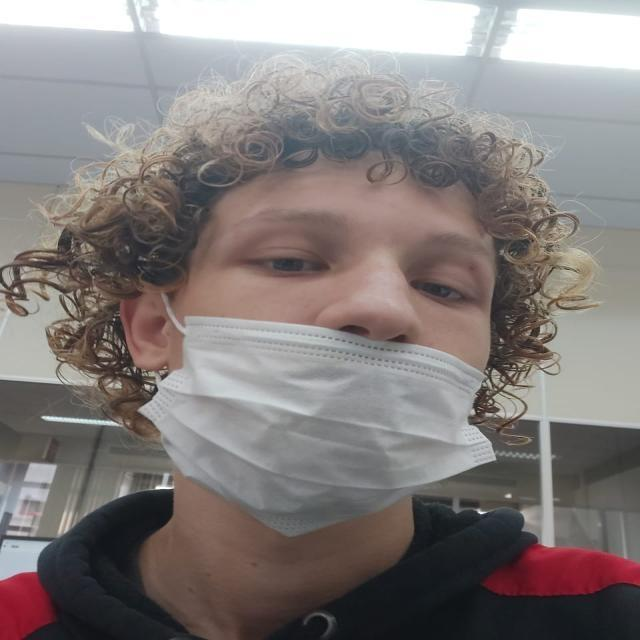hairnet: (180, 154, 488, 482)
